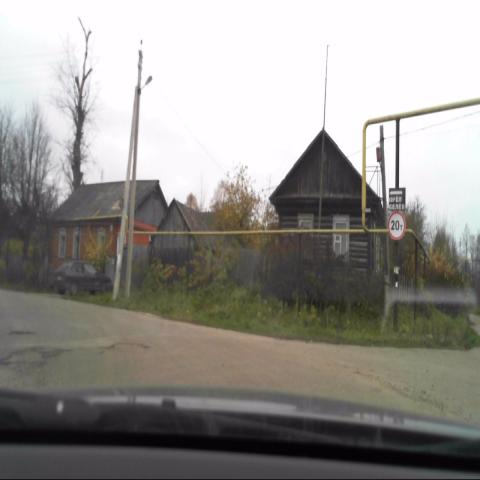3_11: (387, 211, 406, 240)
